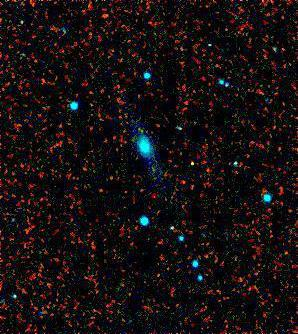star: (172, 147, 202, 177)
